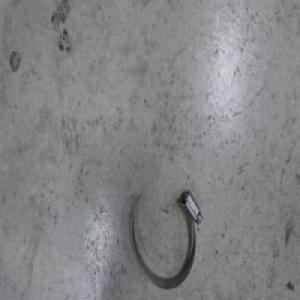AdjustableClamp: (128, 190, 201, 289)
